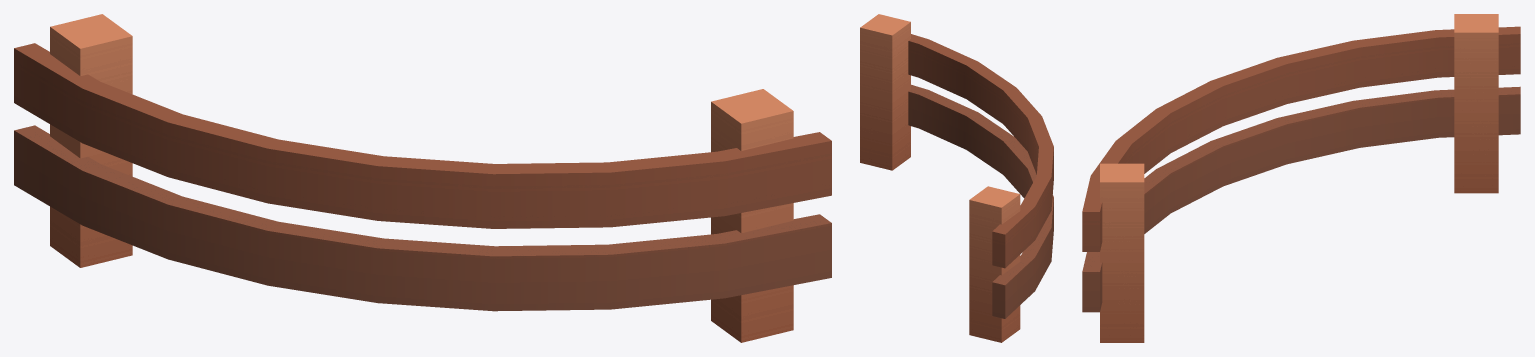
File: fence-corner-curved.glb
3 renders of one model, left to right at view 1: azimuth 30°, elevation 25°; view 2: azimuth 150°, elevation 25°; view 3: azimuth 270°, elevation 25°, orthographic. The views are drawn at different scales.
Visible parts, largest first — view 1: fence-corner-curved; view 2: fence-corner-curved; view 3: fence-corner-curved.
Boxes of the visible parts, x1,y1,x2,y2 form: fence-corner-curved: (14,14,831,342); fence-corner-curved: (860,14,1053,342); fence-corner-curved: (1082,14,1520,342).
Bounding box in the file's own units: 0.99 × 0.4 × 0.99.
1 material, 1 textured.
